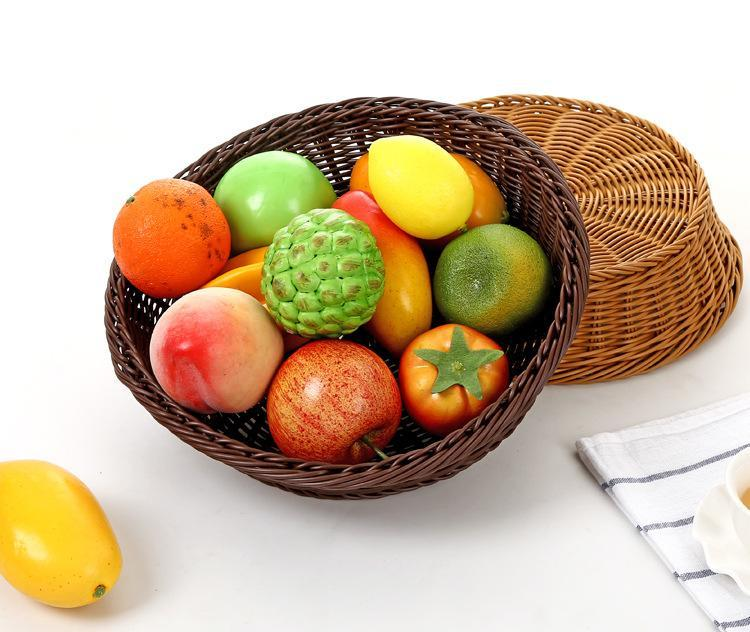apple: (266, 336, 403, 465), (152, 287, 285, 416)
